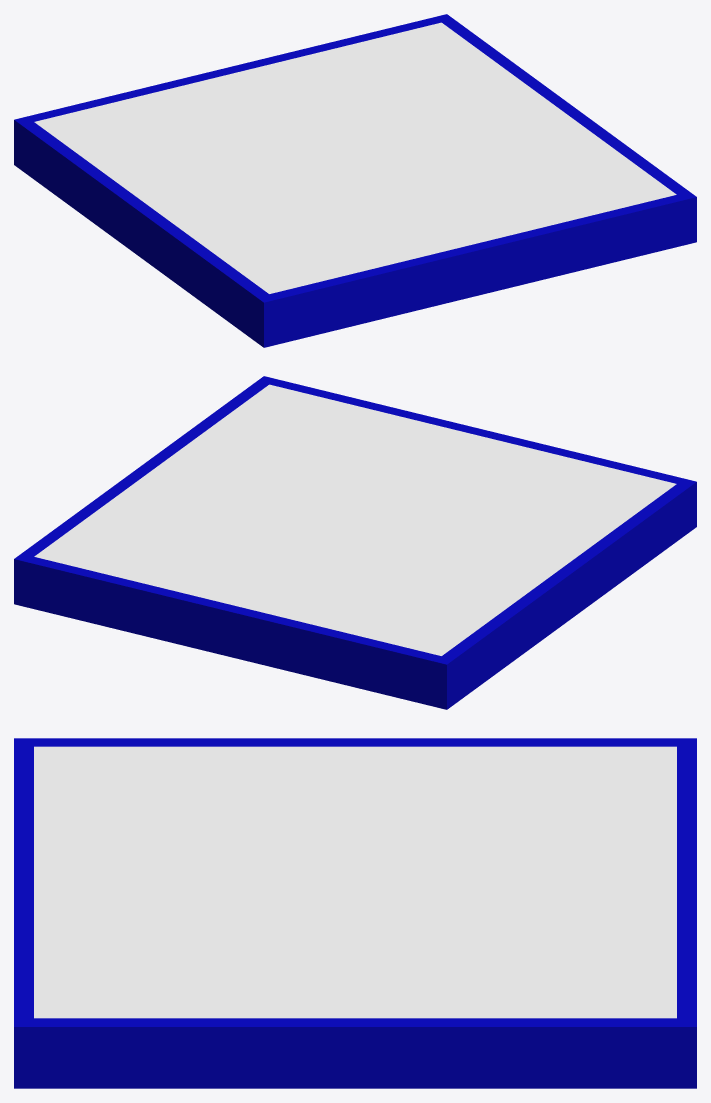
3 renders of one model, top to bottom at view 1: azimuth 30°, elevation 25°; view 2: azimuth 150°, elevation 25°; view 3: azimuth 270°, elevation 25°, orthographic. The views are drawn at different scales.
Parts seen in each view (by area): view 1: SketchUp (×2); view 2: SketchUp (×2); view 3: SketchUp (×2).
Part boxes in pixels (x1,y1,x2,y2): SketchUp (×2): [14, 14, 696, 347]; SketchUp (×2): [14, 376, 696, 709]; SketchUp (×2): [14, 738, 696, 1088].
Size of the model in its own units: 52.69 by 52.69 by 5.26.
